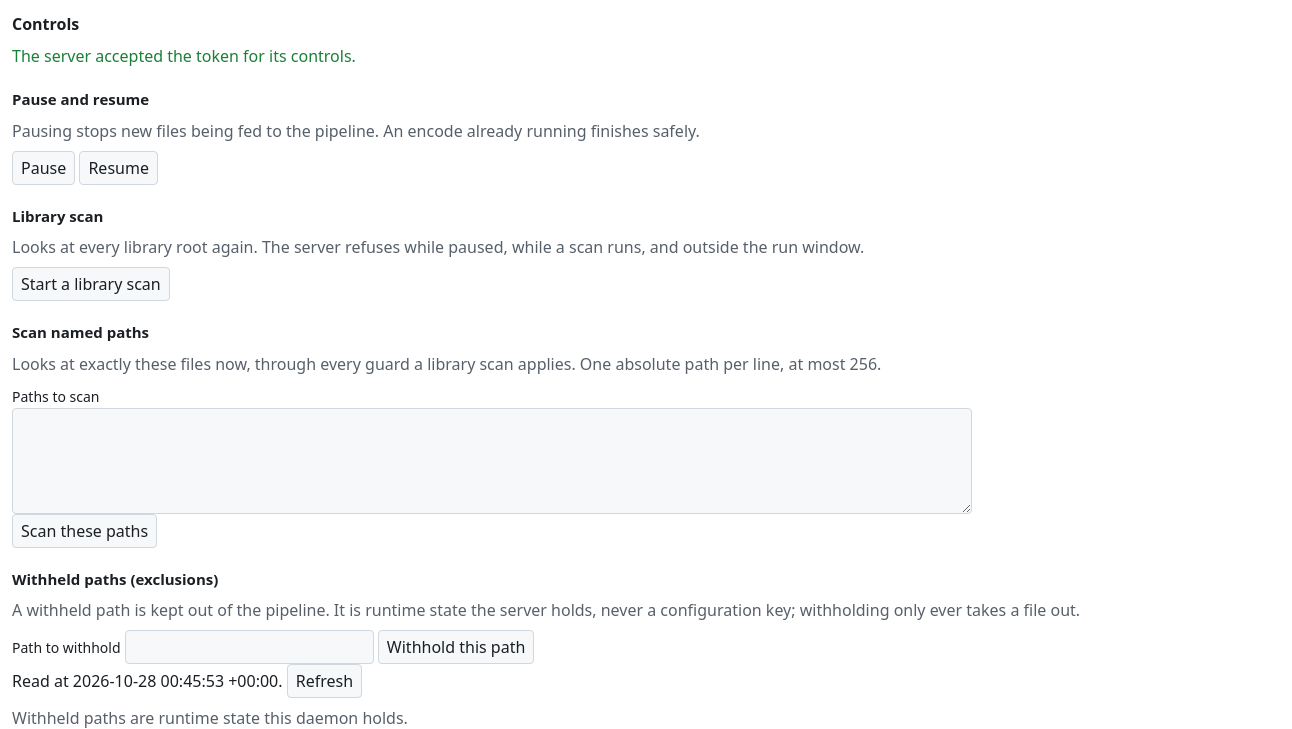
controls › controls: a request that got no answer claims nothing changed
Check: the text "The server accepted the token for its controls." is shown, box [12,45,356,67]
Click the button "Pause": x=44, y=168 [12,150,75,184]
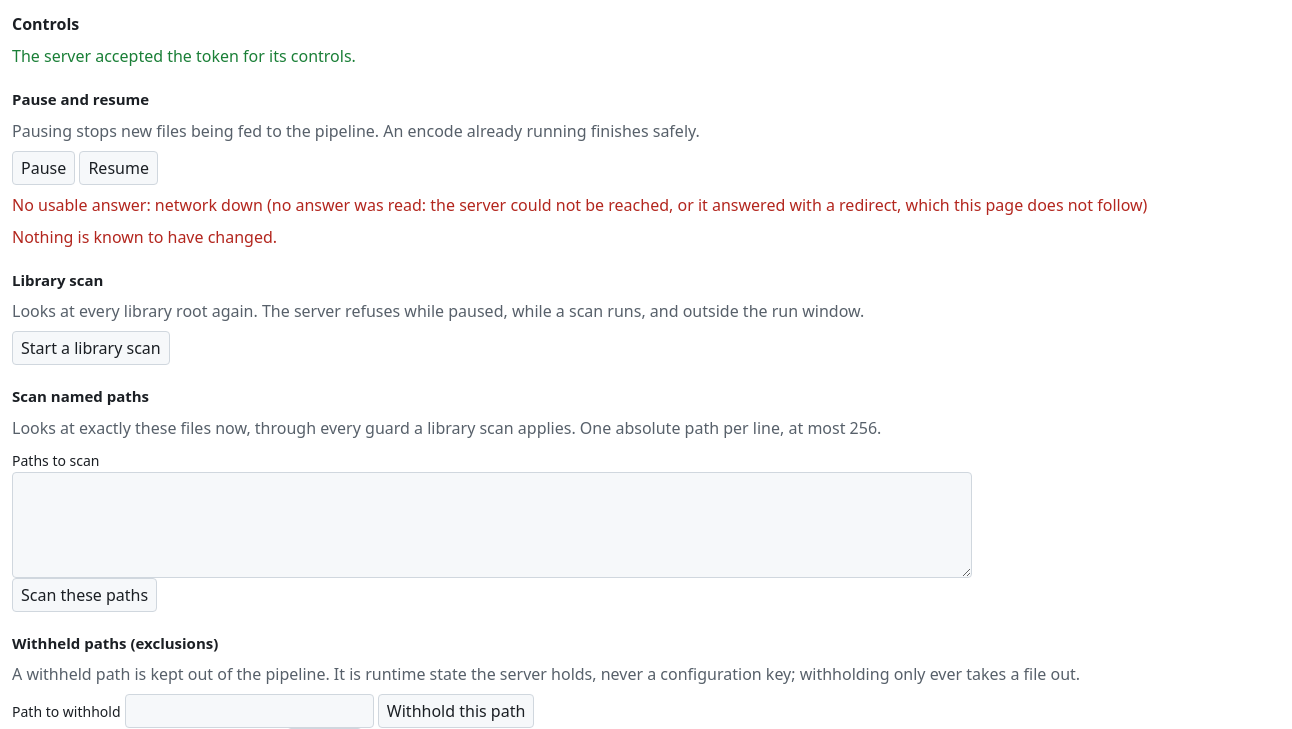
Check: the 2nd message shows "No usable answer: network down", box [12,194,1147,216]
Check: the 2nd message shows "Nothing is known to have changed.", box [12,226,277,248]
